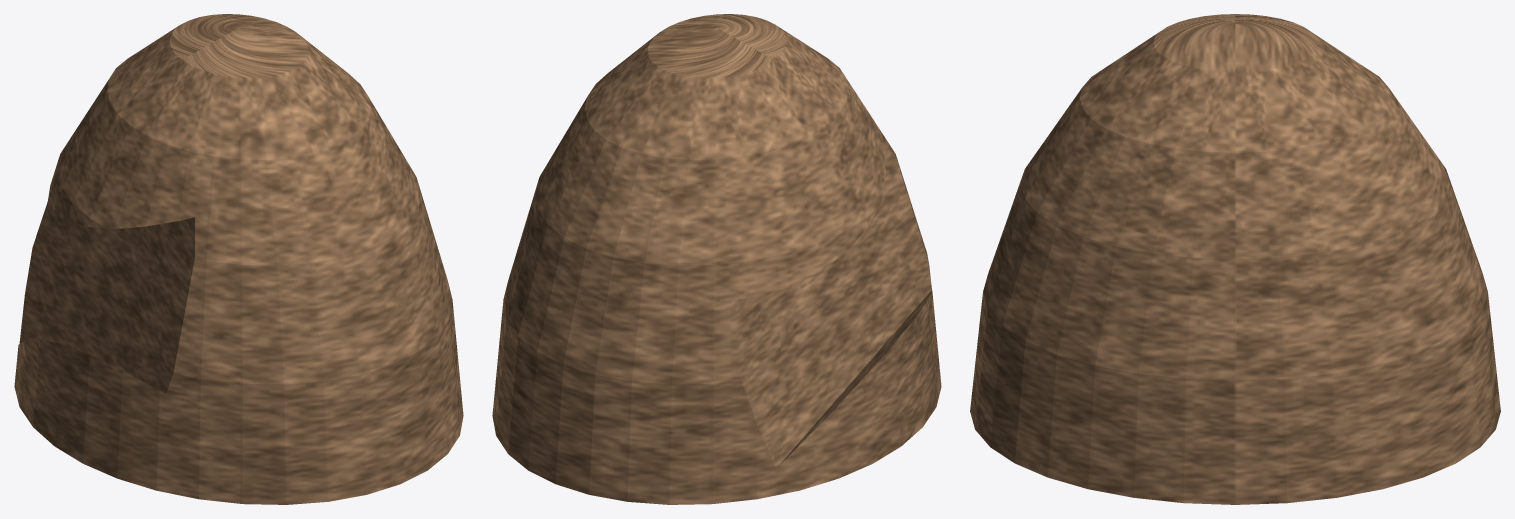
3 views of the same model, side by side, from view 1: azimuth 30°, elevation 25°; view 2: azimuth 150°, elevation 25°; view 3: azimuth 270°, elevation 25° (orthographic). The views are drawn at different scales.
Parts seen in each view (by area): view 1: geometry_0; view 2: geometry_0; view 3: geometry_0.
Part boxes in pixels (<box>): geometry_0: <box>14,14,463,504</box>; geometry_0: <box>492,14,941,504</box>; geometry_0: <box>970,14,1500,504</box>.
Bounding box in the file's own units: 1.27 × 1.23 × 1.52.
Materials: 1 (1 with a texture image).
